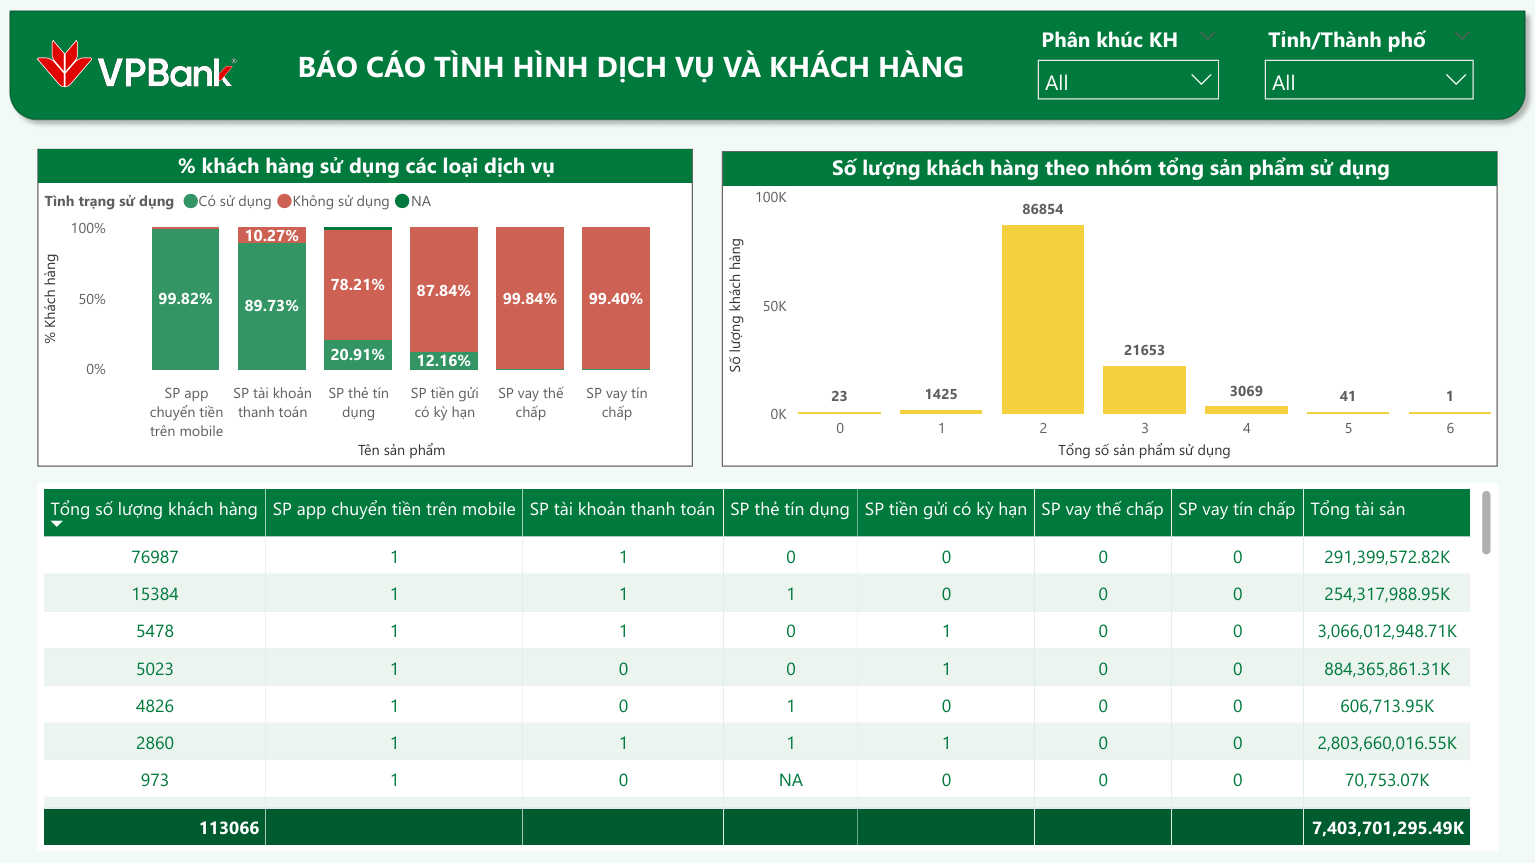

What the dashboard file says about the page in this screenshot:
{"tool":"powerbi","page":{"name":"Tình hình dịch vụ","canvas":[1280,720],"ordinal":1},"visuals":[{"type":"shape","box":[0,0,1279.5,109],"z":0},{"type":"image","box":[31.8,24.2,166.6,59.1],"z":1000},{"type":"slicer","fields":{"Values":["cust.Phân khúc khách hàng"]},"box":[854,13.6,172.6,81.8],"z":2000},{"type":"slicer","fields":{"Values":["cust.Tỉnh/Thành phố"]},"box":[1043.3,13.6,195.3,81.8],"z":3000},{"type":"textbox","title":"BÁO CÁO TÌNH HÌNH DỊCH VỤ VÀ KHÁCH HÀNG","box":[239.2,37.9,573.9,34.8],"z":4000},{"type":"hundredPercentStackedColumnChart","title":"% khách hàng sử dụng các loại dịch vụ","fields":{"Category":["prod_holding_unpivot.product_name"],"Y":["Count(prod_holding_unpivot.customer_id)"],"Series":["prod_holding_unpivot.has_product"]},"box":[31.5,124.5,546.8,264.7],"z":5000},{"type":"tableEx","fields":{"Values":["prod_holding.ID khách hàng","prod_holding.SP app chuyển tiền trên mobile","prod_holding.SP tài khoản thanh toán","prod_holding.SP thẻ tín dụng","prod_holding.SP tiền gửi có kỳ hạn","prod_holding.SP vay thế chấp","prod_holding.SP vay tín chấp","aum.Tổng tài sản"]},"box":[31.5,403.4,1216.5,305.7],"z":6000},{"type":"clusteredColumnChart","title":"Số lượng khách hàng theo nhóm tổng sản phẩm sử dụng","fields":{"Category":["prod_holding.Số SP sử dụng"],"Y":["prod_holding.Số KH theo nhóm SP"]},"box":[601.9,126.1,646,263.1],"z":7000}]}

Visuals, with their boxes in screenshot pixels (x1, y1, x2, y2), scaled from the page's 1280x720 canvas onto the 1537x865 screenshot:
shape: bbox(0, 0, 1536, 131)
image: bbox(38, 29, 238, 100)
slicer - cust.Phân khúc khách hàng: bbox(1025, 16, 1233, 115)
slicer - cust.Tỉnh/Thành phố: bbox(1253, 16, 1487, 115)
"BÁO CÁO TÌNH HÌNH DỊCH VỤ VÀ KHÁCH HÀNG" textbox: bbox(287, 46, 976, 87)
"% khách hàng sử dụng các loại dịch vụ" hundredPercentStackedColumnChart: bbox(38, 150, 694, 468)
tableEx - prod_holding.ID khách hàng x prod_holding.SP app chuyển tiền trên mobile: bbox(38, 485, 1499, 852)
"Số lượng khách hàng theo nhóm tổng sản phẩm sử dụng" clusteredColumnChart: bbox(723, 151, 1498, 468)
